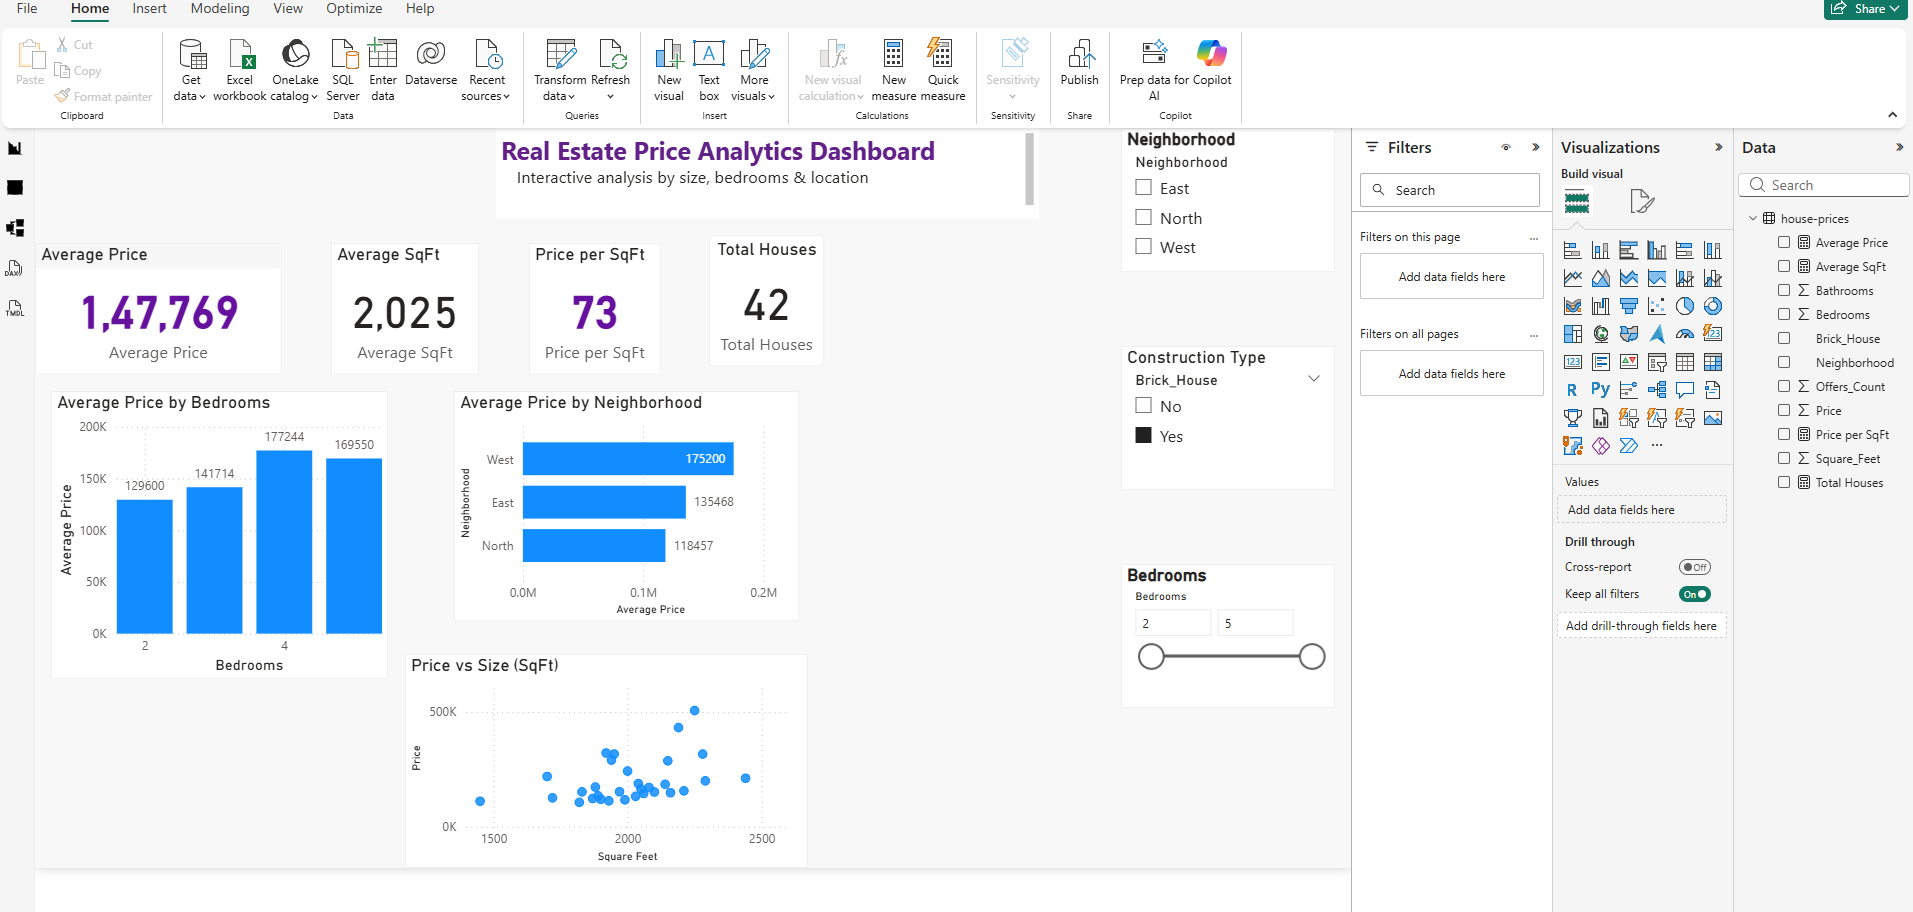

The page's visual inventory and layout, read from the dashboard file:
{"tool":"powerbi","page":{"name":"Page 1","canvas":[1280,720],"ordinal":0},"visuals":[{"type":"card","title":"Average Price","fields":{"Values":["house-prices.Average Price"]},"box":[0,112,240,128],"z":0},{"type":"card","title":"Price per SqFt","fields":{"Values":["house-prices.Price per SqFt"]},"box":[480,112,128,128],"z":1000},{"type":"card","title":"Total Houses","fields":{"Values":["house-prices.Total Houses"]},"box":[656,104,112,128],"z":2000},{"type":"card","title":"Average SqFt","fields":{"Values":["house-prices.Average SqFt"]},"box":[288,112,144,128],"z":3000},{"type":"clusteredColumnChart","title":"Average Price by Bedrooms","fields":{"Category":["house-prices.Bedrooms"],"Y":["house-prices.Average Price"]},"box":[16,256,328,280],"z":4000},{"type":"clusteredBarChart","title":"Average Price by Neighborhood","fields":{"Category":["house-prices.Neighborhood"],"Y":["house-prices.Average Price"]},"box":[408,256,336,224],"z":5000},{"type":"scatterChart","title":"Price vs Size (SqFt)","fields":{"X":["house-prices.Square_Feet"],"Y":["Sum(house-prices.Price)"]},"box":[360,512,392,208],"z":6000},{"type":"slicer","title":"Neighborhood","fields":{"Values":["house-prices.Neighborhood"]},"box":[1056,0,208,140],"z":7000},{"type":"slicer","title":"Bedrooms","fields":{"Values":["house-prices.Bedrooms"]},"box":[1056,424,208,140],"z":8000},{"type":"slicer","title":"Construction Type","fields":{"Values":["house-prices.Brick_House"]},"box":[1056,212,208,140],"z":9000},{"type":"textbox","box":[448,0,528,88],"z":10000}]}

Visuals, with their boxes on the page's 1280x720 design canvas (x1, y1, x2, y2). These are canvas units, not pixel positions in the 1913x912 screenshot, which may show the page scaled, cropped or inside an application window:
"Average Price" card: Rect(0, 112, 240, 240)
"Price per SqFt" card: Rect(480, 112, 608, 240)
"Total Houses" card: Rect(656, 104, 768, 232)
"Average SqFt" card: Rect(288, 112, 432, 240)
"Average Price by Bedrooms" clusteredColumnChart: Rect(16, 256, 344, 536)
"Average Price by Neighborhood" clusteredBarChart: Rect(408, 256, 744, 480)
"Price vs Size (SqFt)" scatterChart: Rect(360, 512, 752, 720)
"Neighborhood" slicer: Rect(1056, 0, 1264, 140)
"Bedrooms" slicer: Rect(1056, 424, 1264, 564)
"Construction Type" slicer: Rect(1056, 212, 1264, 352)
textbox: Rect(448, 0, 976, 88)
